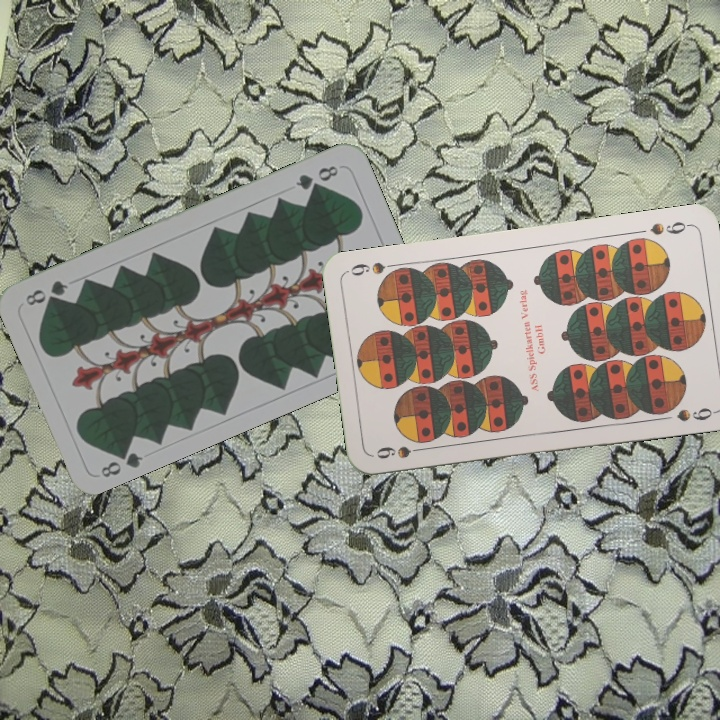G8: (96, 442, 146, 481), (291, 161, 341, 193)
S9: (372, 441, 430, 462), (645, 217, 693, 238)
